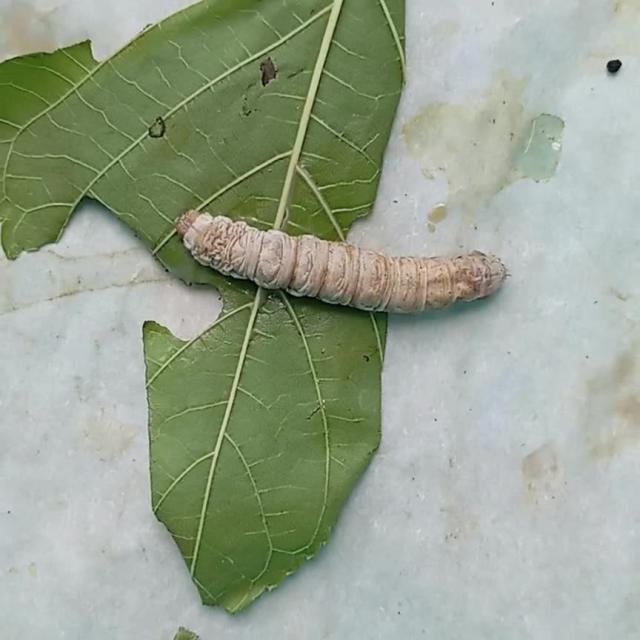Grasserie: (161, 185, 522, 322)
